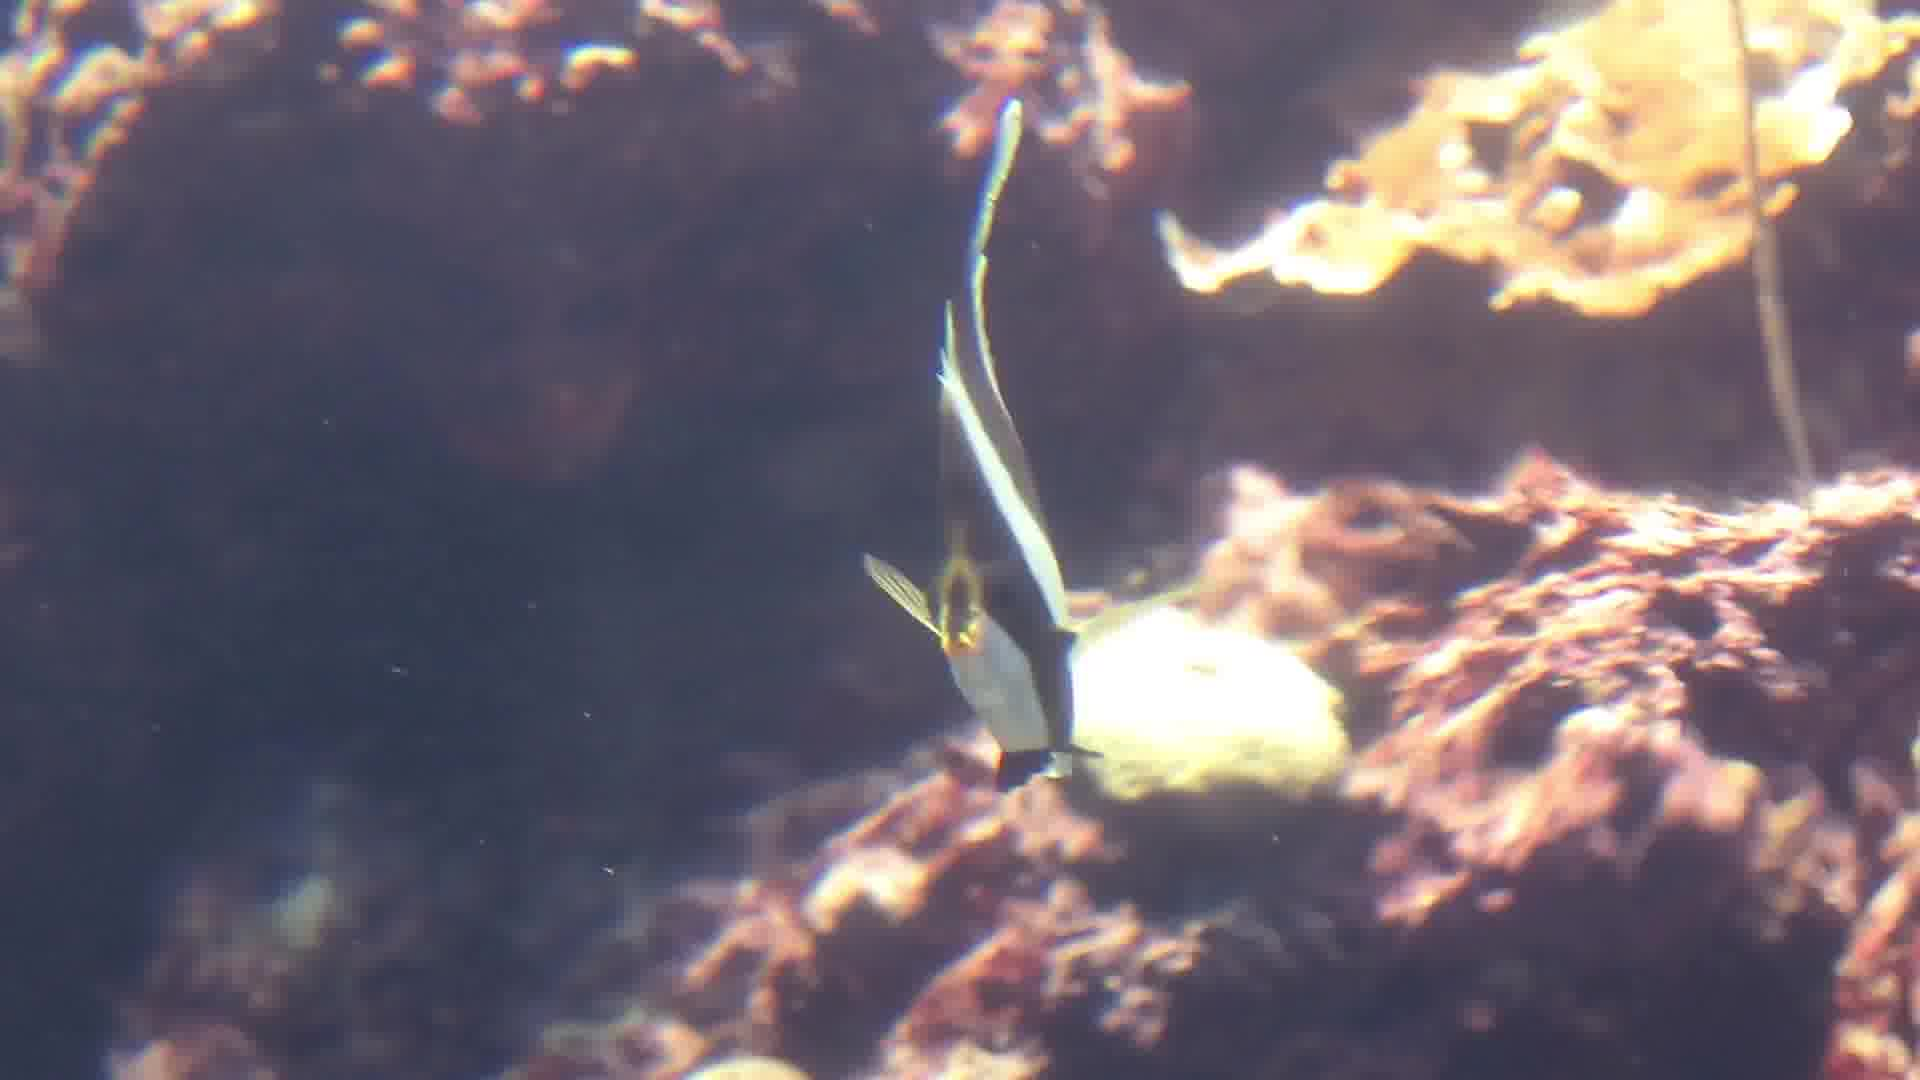Heniochus chrysostomus: (767, 69, 1185, 810)
